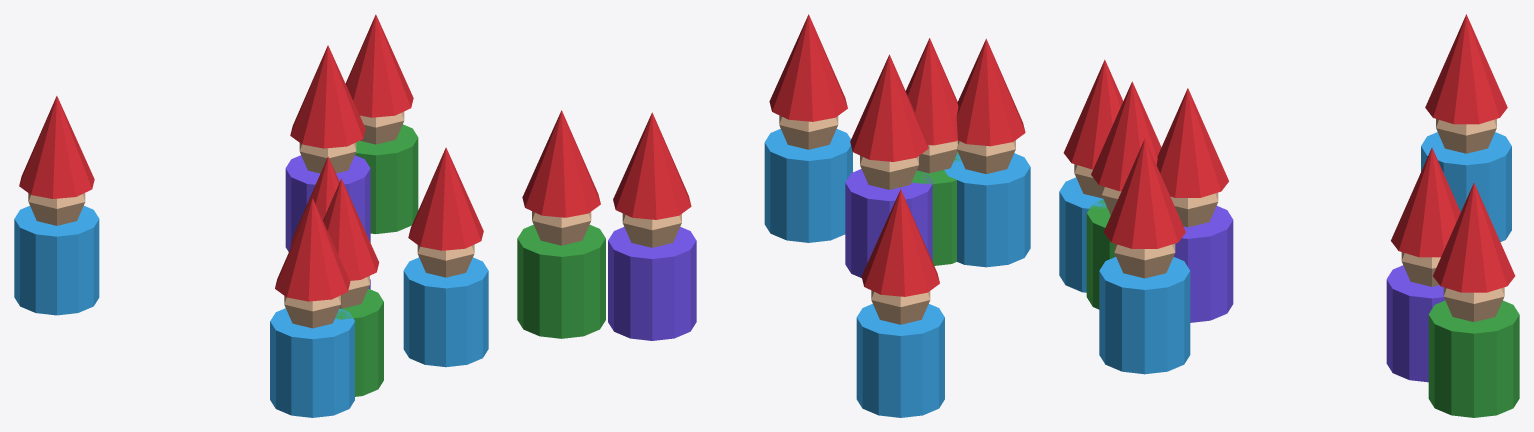
The model's file is gnome-pile.glb.
3 views of the same model, side by side, from view 1: azimuth 30°, elevation 25°; view 2: azimuth 150°, elevation 25°; view 3: azimuth 270°, elevation 25° (orthographic). The views are drawn at different scales.
Parts seen in each view (by area): view 1: gnome-pile; view 2: gnome-pile; view 3: gnome-pile.
Part boxes in pixels (left/top/right/bottom): gnome-pile: left=14, top=14, right=488, bottom=417; gnome-pile: left=517, top=14, right=1030, bottom=417; gnome-pile: left=1059, top=14, right=1519, bottom=417.
Bounding box in the file's own units: 2.37 × 1.15 × 2.23.
